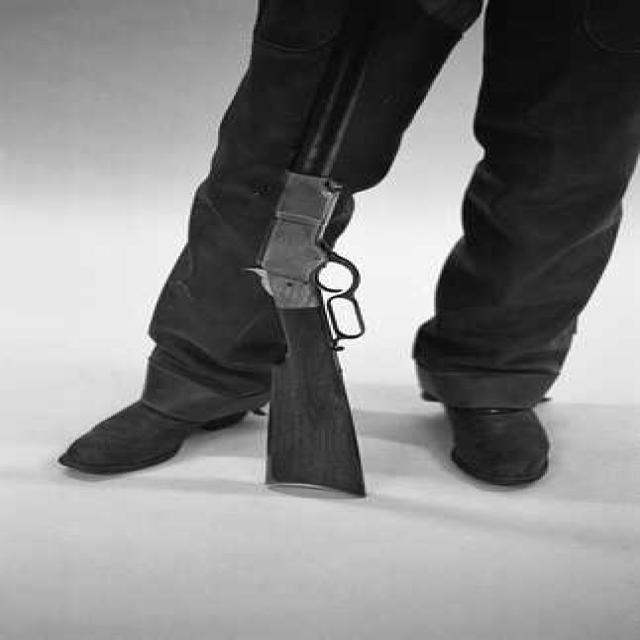heavyweapon: (215, 1, 421, 510)
